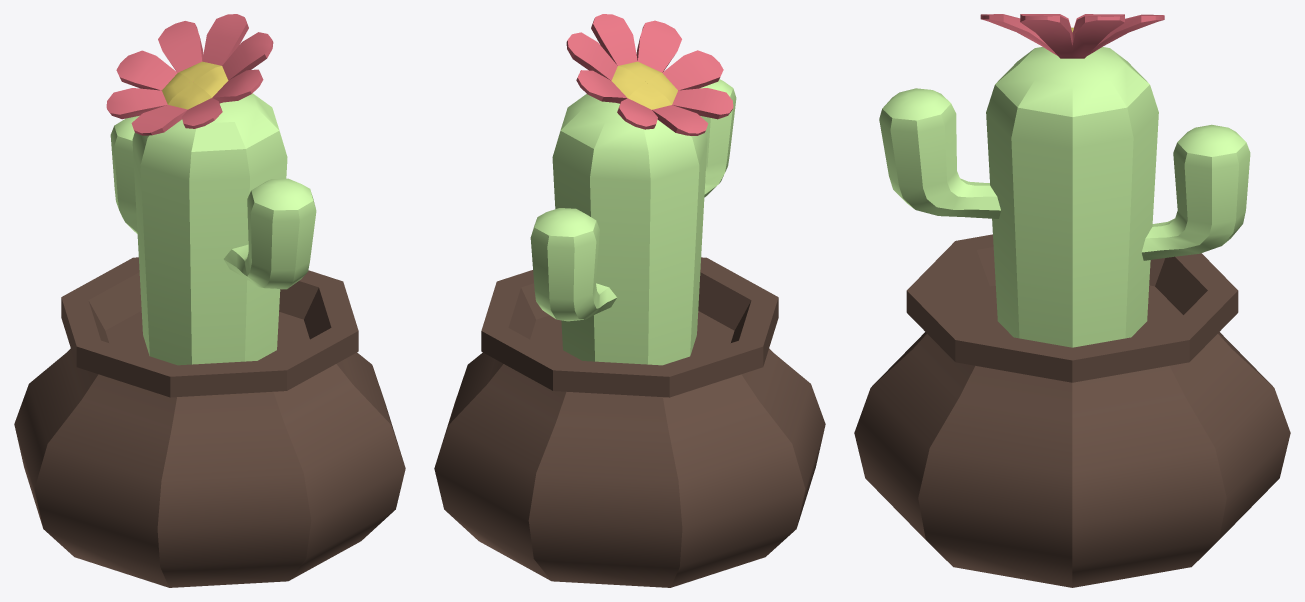
Rendered from Cactus.fbx.
3 views of the same model, side by side, from view 1: azimuth 30°, elevation 25°; view 2: azimuth 150°, elevation 25°; view 3: azimuth 270°, elevation 25° (orthographic). The views are drawn at different scales.
Visible parts, largest first — view 1: Sphere.001; view 2: Sphere.001; view 3: Sphere.001.
Boxes of the visible parts, box(x1,y1,x2,y2) form: Sphere.001: box(14, 14, 405, 587); Sphere.001: box(434, 14, 825, 587); Sphere.001: box(854, 14, 1290, 587).
Bounding box in the file's own units: 50.91 × 72 × 50.91.
